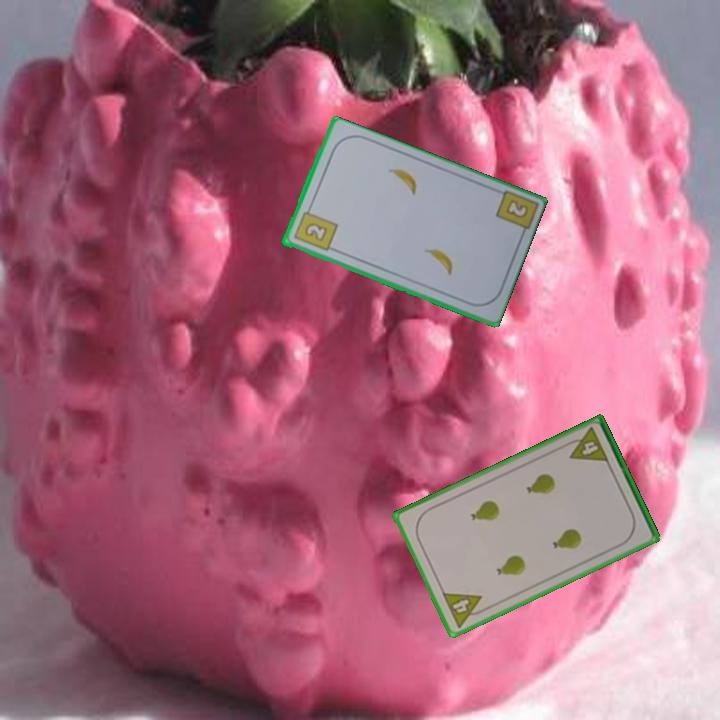2b: (290, 203, 340, 254), (502, 196, 531, 221)
4p: (438, 589, 490, 631), (561, 424, 612, 466)
